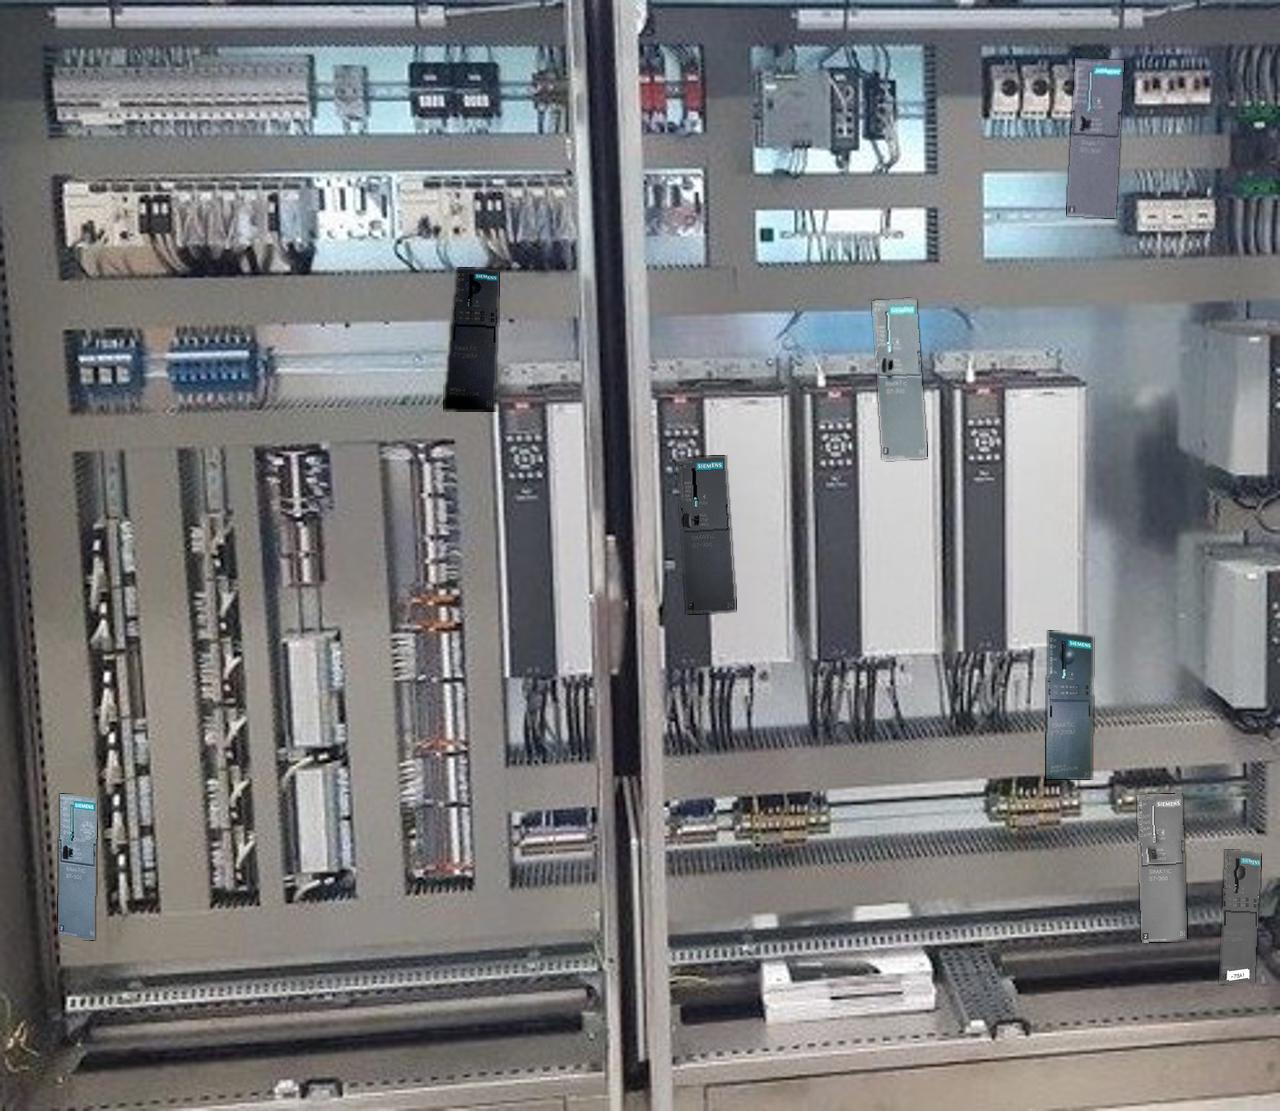Siemens: (677, 455, 735, 613), (1067, 59, 1123, 217), (872, 299, 927, 459), (1137, 793, 1187, 942), (58, 794, 96, 939)
